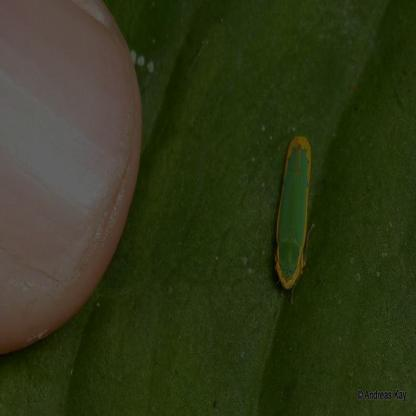green-leafhopper: (272, 131, 320, 291)
